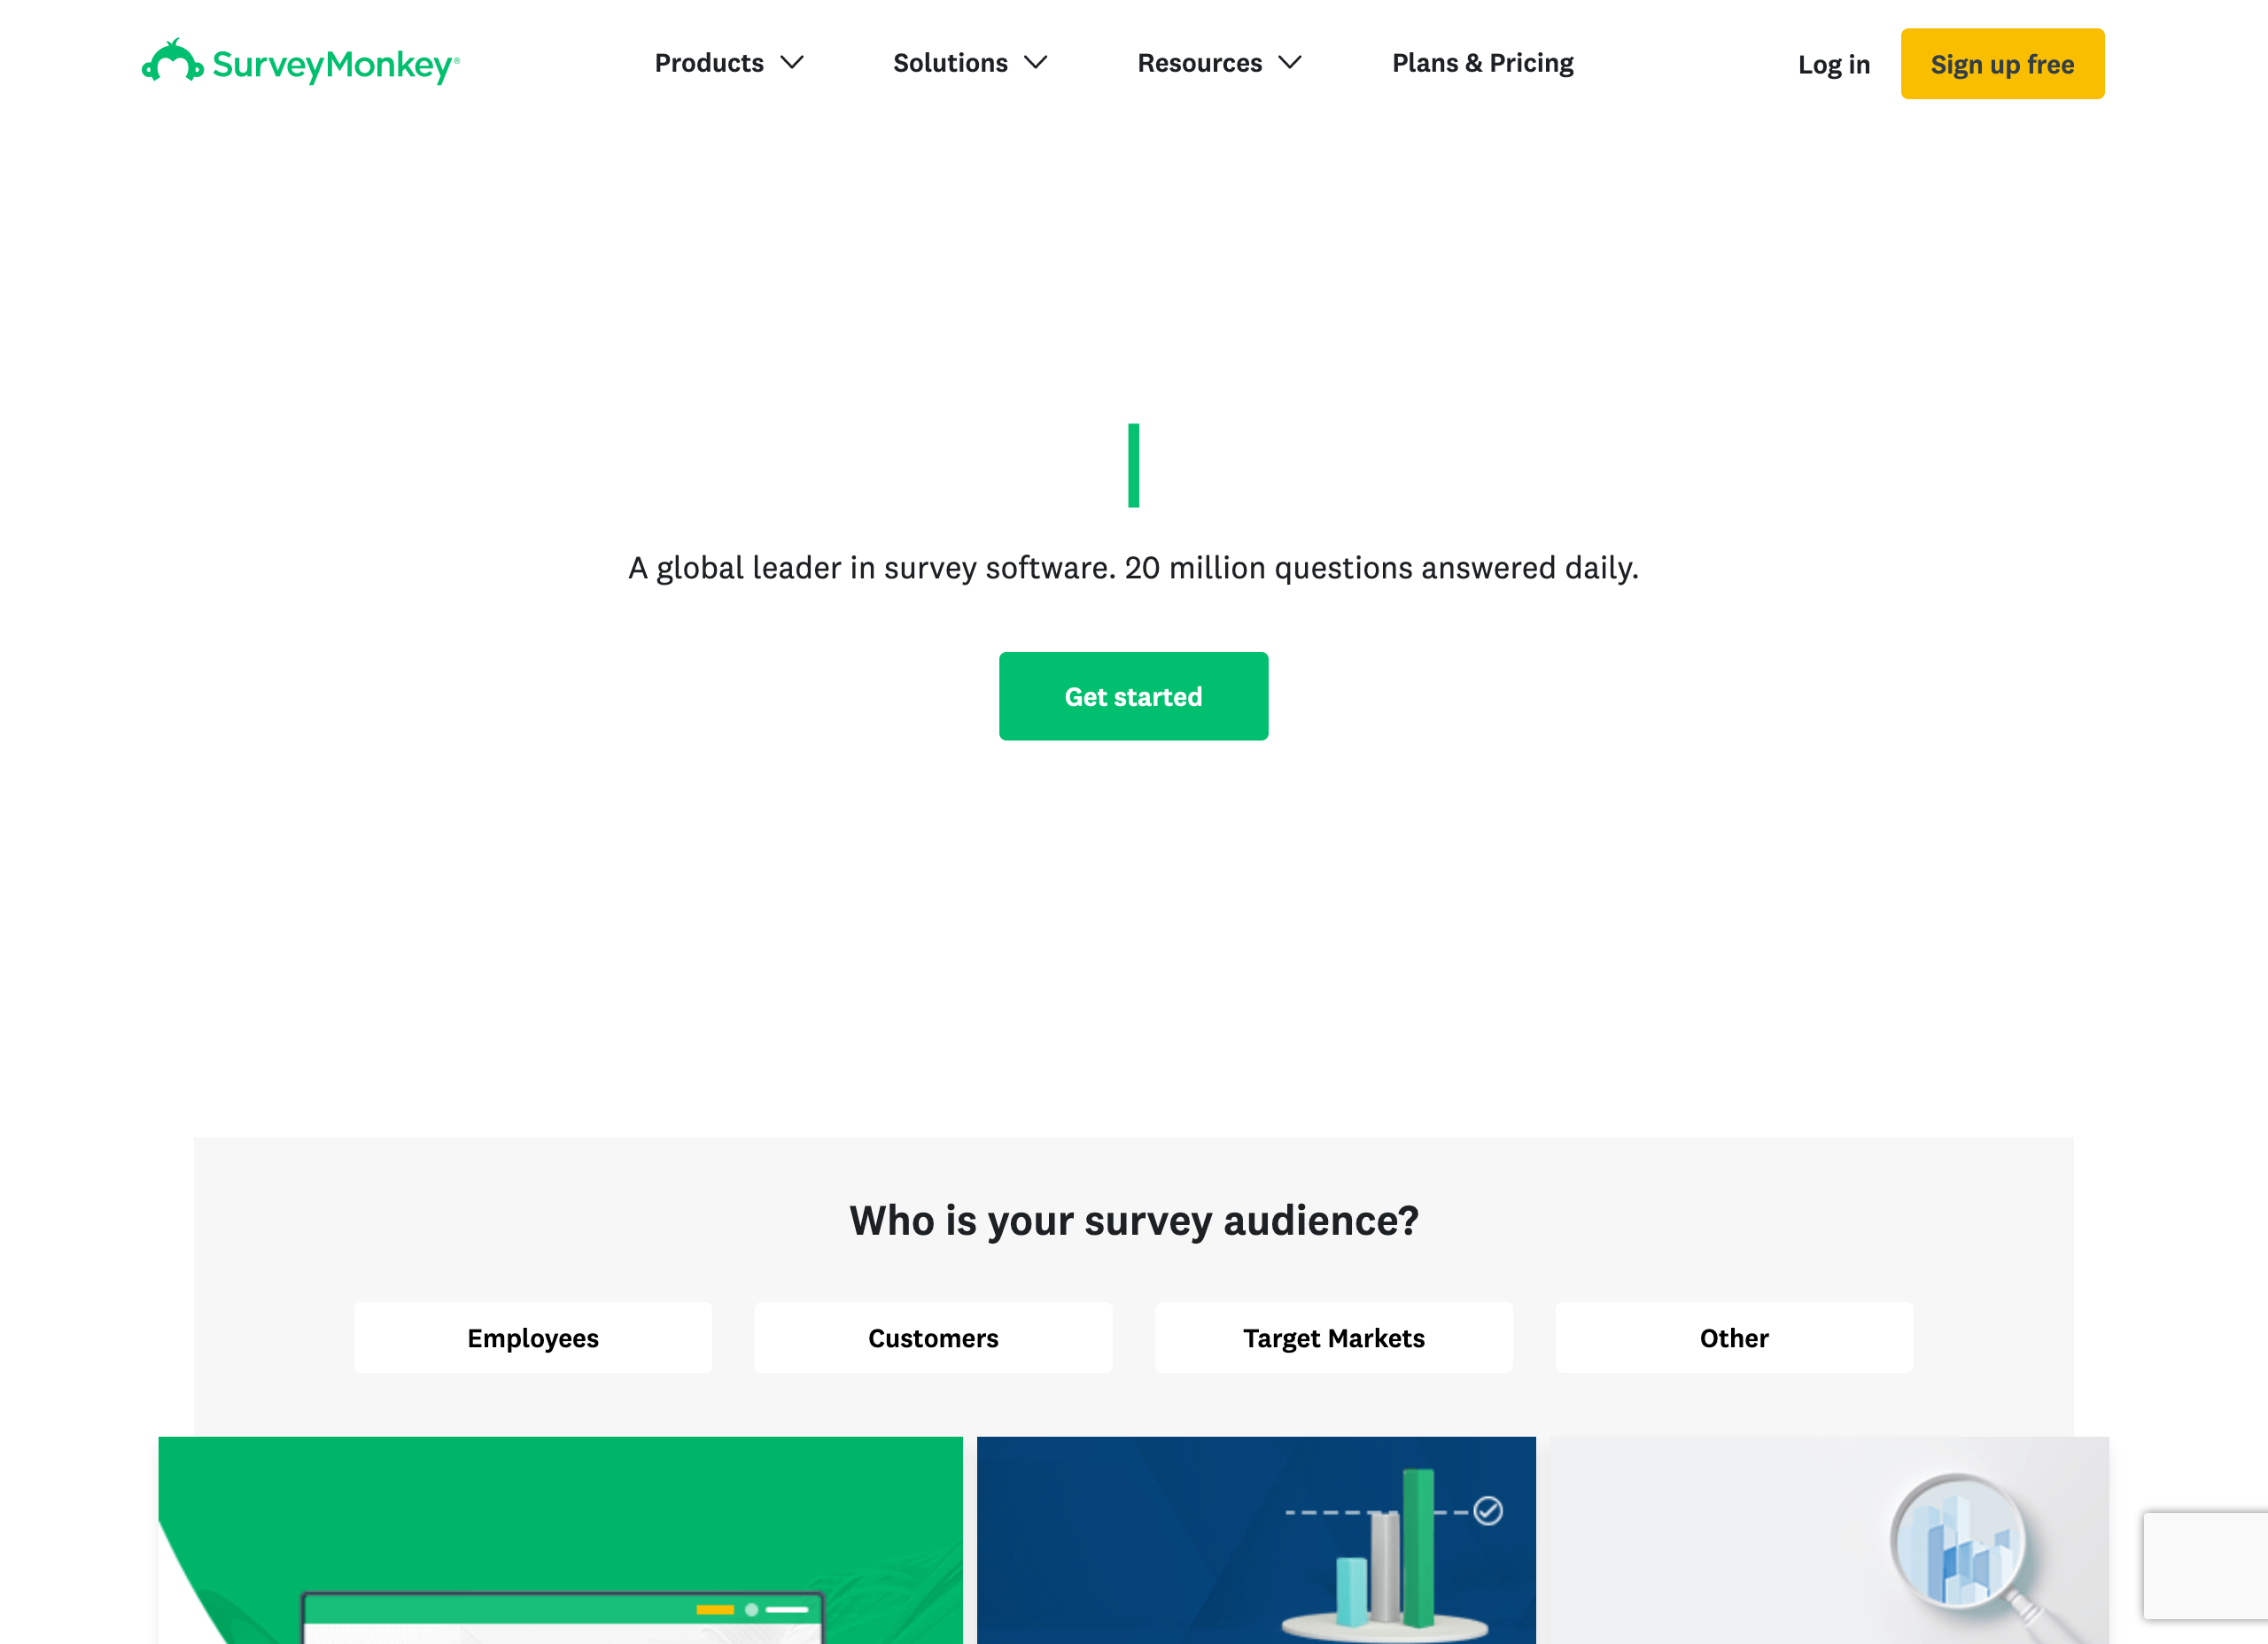Login: (1789, 39, 1879, 92)
